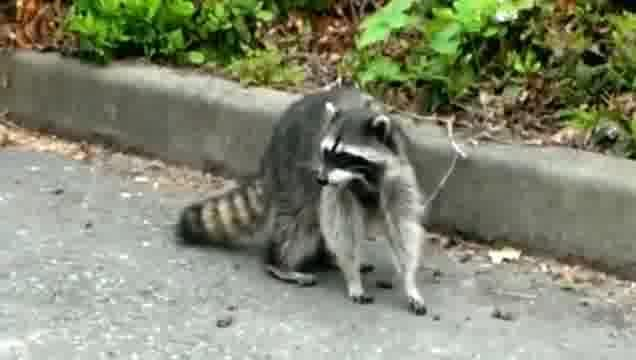raccoon: (180, 91, 427, 317)
